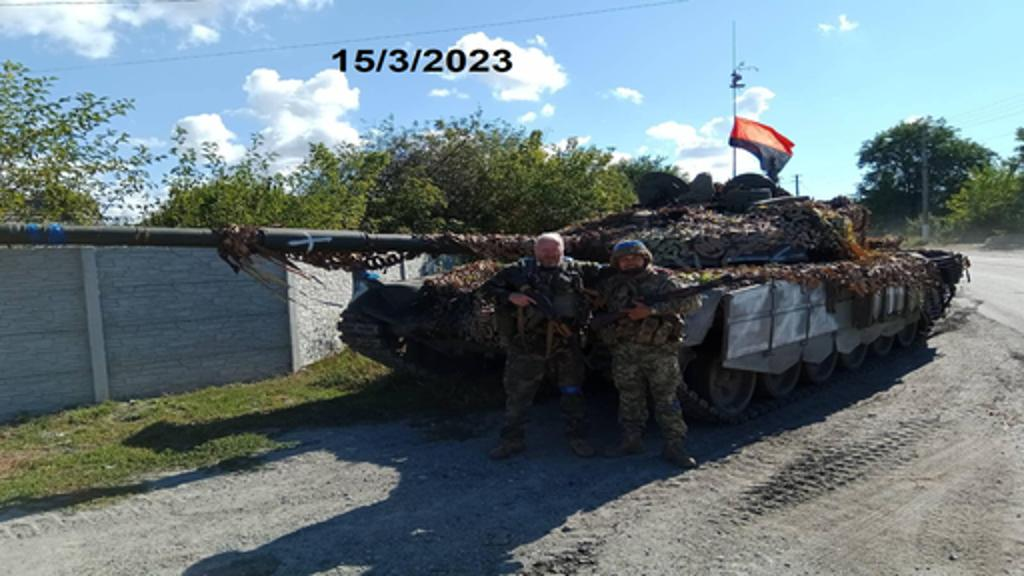TANK: (0, 172, 968, 420)
